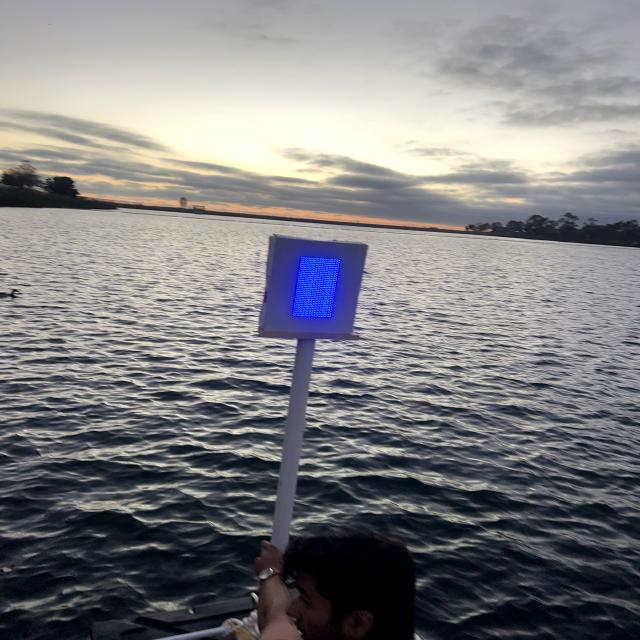led: (272, 238, 353, 337)
